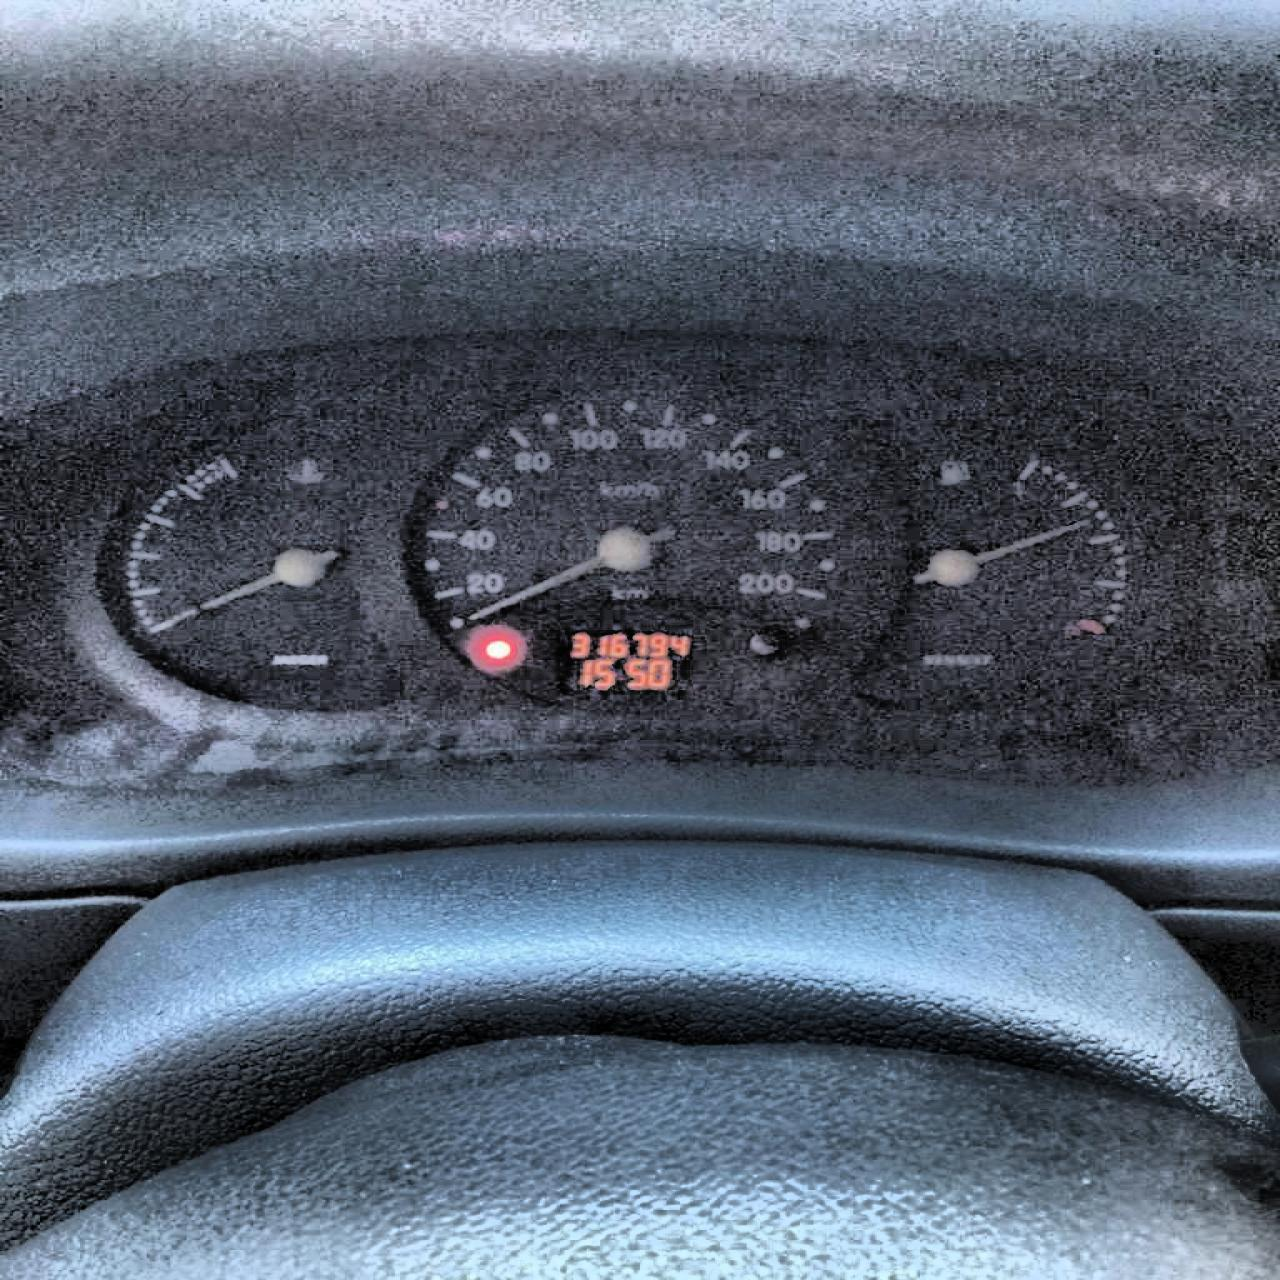0: (647, 659, 668, 686)
1: (580, 659, 592, 686), (597, 635, 606, 655)
3: (568, 632, 588, 658)
4: (668, 635, 688, 655)
5: (592, 658, 613, 688), (624, 658, 645, 687)
6: (608, 634, 625, 656)
7: (628, 633, 647, 655)
9: (647, 633, 668, 656)
odometer: (545, 626, 707, 701)
